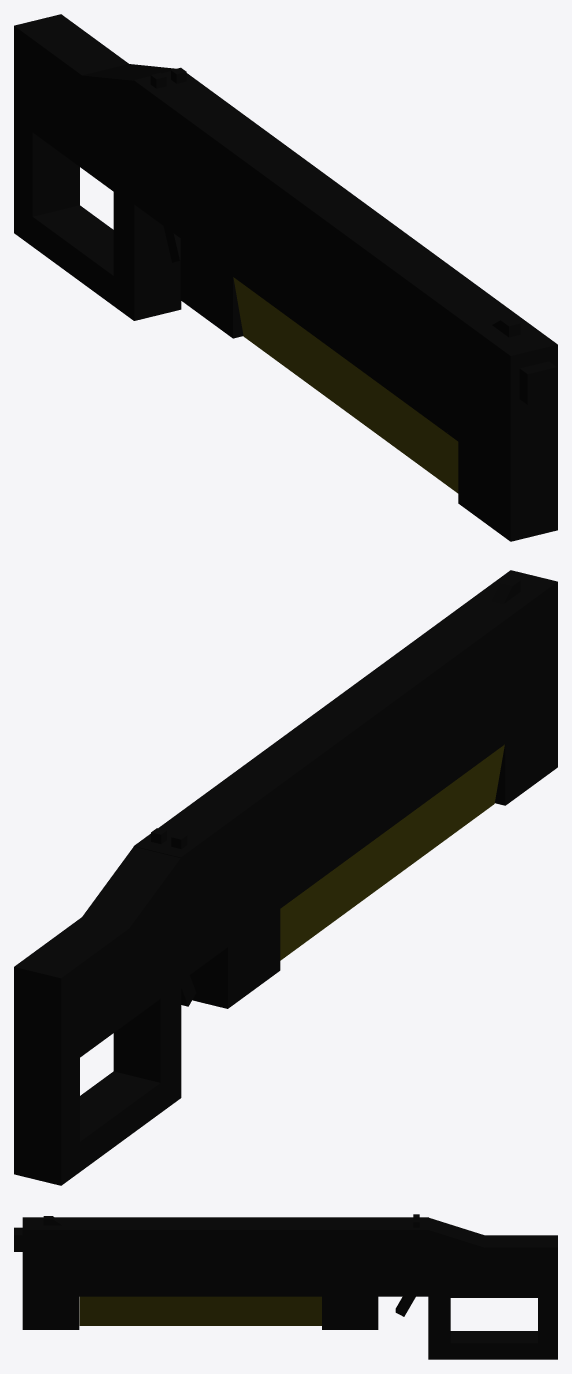
Rendered from EnergyAssaultRifleFull.fbx.
3 renders of one model, top to bottom at view 1: azimuth 30°, elevation 25°; view 2: azimuth 150°, elevation 25°; view 3: azimuth 270°, elevation 25°, orthographic. The views are drawn at different scales.
Visible parts, largest first — view 1: Rifle, Magazine; view 2: Rifle, Magazine; view 3: Rifle, Magazine.
Boxes of the visible parts, box(x1,y1,x2,y2) form: Rifle: box(14, 14, 557, 541); Magazine: box(233, 277, 458, 493); Rifle: box(14, 570, 557, 1185); Magazine: box(280, 744, 504, 960); Rifle: box(14, 1214, 557, 1359); Magazine: box(79, 1296, 321, 1325).
Bounding box in the file's own units: 155 × 787 × 2860.
